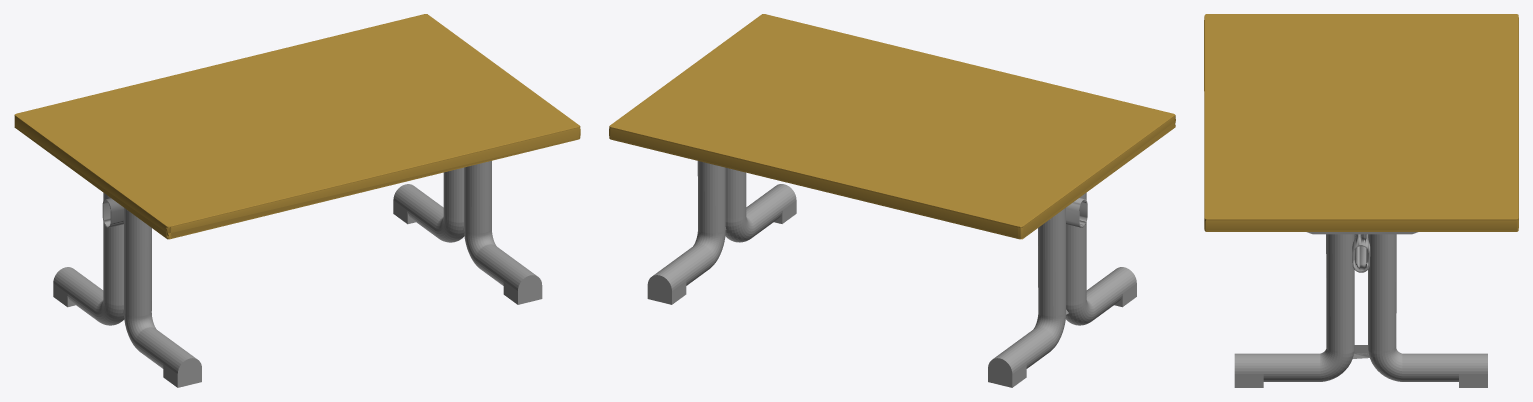
Rendered from Tisch Groß.fbx.
3 renders of one model, left to right at view 1: azimuth 30°, elevation 25°; view 2: azimuth 150°, elevation 25°; view 3: azimuth 270°, elevation 25°, orthographic.
Parts seen in each view (by area): view 1: Cube.001, Cylinder, Cylinder.002; view 2: Cube.001, Cylinder, Cylinder.002; view 3: Cube.001, Cylinder, Cylinder.002, Cube.
Boxes of the visible parts, x1,y1,x2,y2 form: Cube.001: (14, 14, 580, 239); Cylinder: (53, 161, 542, 387); Cylinder.002: (102, 198, 123, 227); Cube.001: (609, 14, 1175, 239); Cylinder: (647, 161, 1136, 387); Cylinder.002: (1066, 198, 1087, 227); Cube.001: (1204, 14, 1518, 231); Cylinder: (1234, 234, 1487, 387); Cylinder.002: (1352, 234, 1370, 272); Cube: (1307, 232, 1417, 234).
Bounding box in the file's own units: 1.7 × 0.6986 × 1.1.
